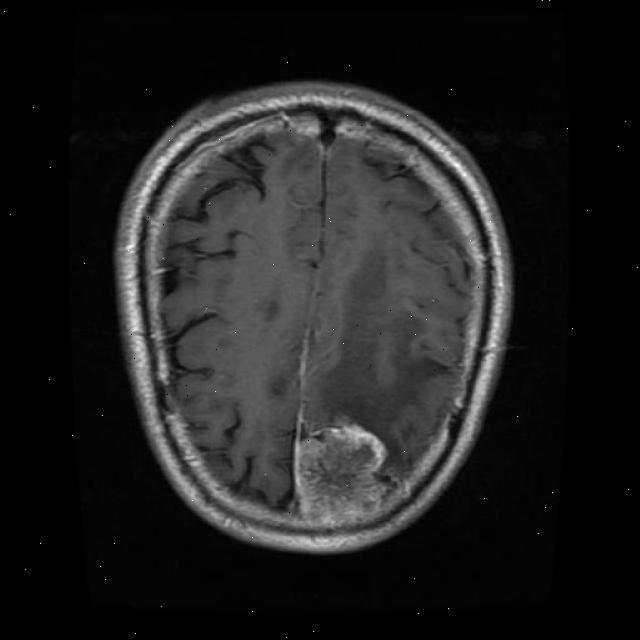Meningioma: (296, 422, 392, 522)
